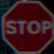Stop: (0, 10, 49, 42)
